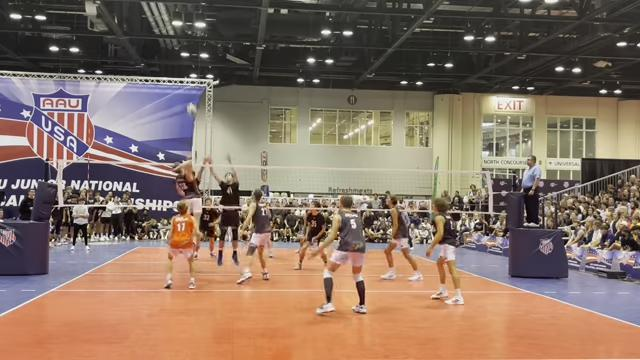attacco: (173, 156, 201, 240)
muro: (203, 151, 242, 269)
